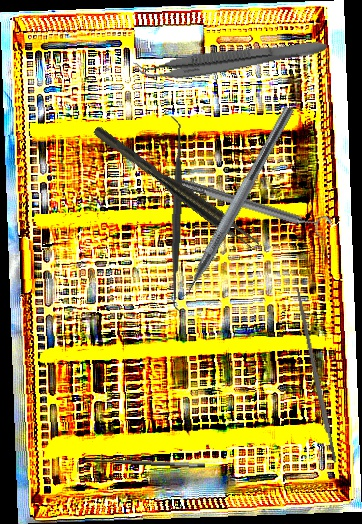Chopper: (163, 97, 295, 313)
Fixation Ring: (175, 169, 333, 242)
Hook Surgical: (76, 454, 206, 479)
Scalpel Handle: (294, 288, 338, 465)
Spatula Surgical: (162, 116, 191, 312)
Tissue Forceps: (92, 120, 262, 255), (132, 28, 329, 88)
